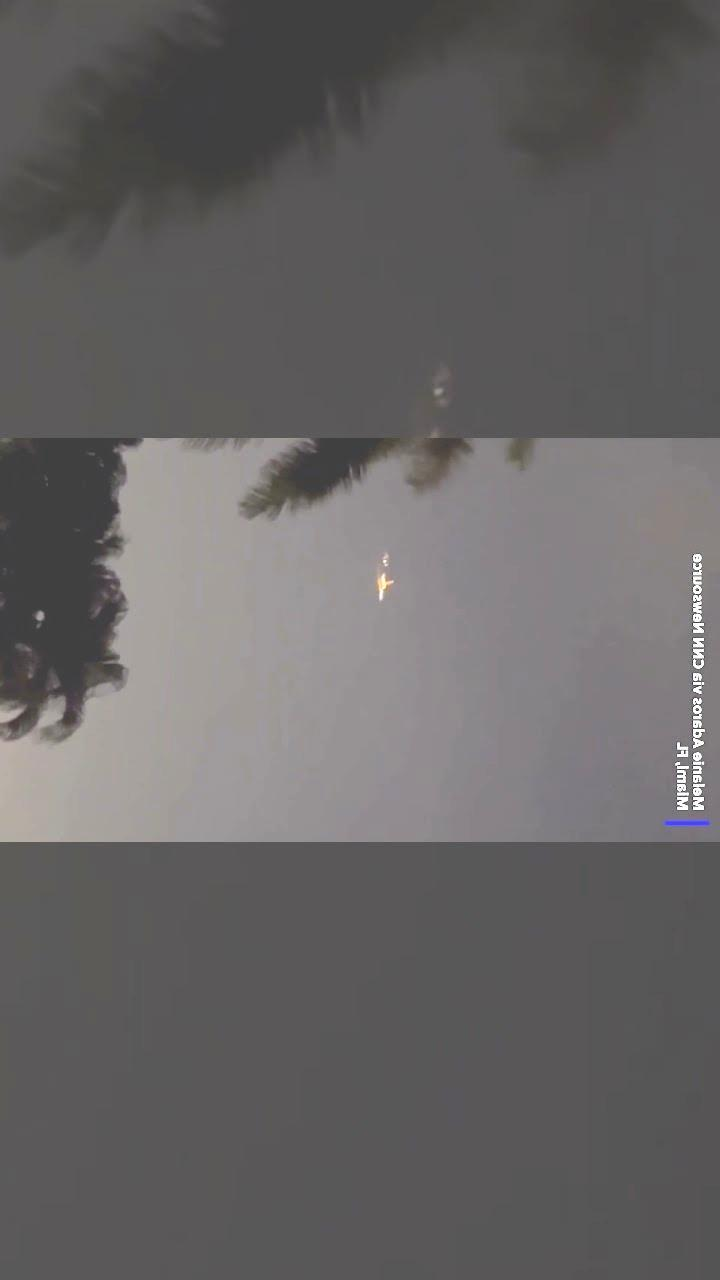Plane: (351, 538, 421, 623)
